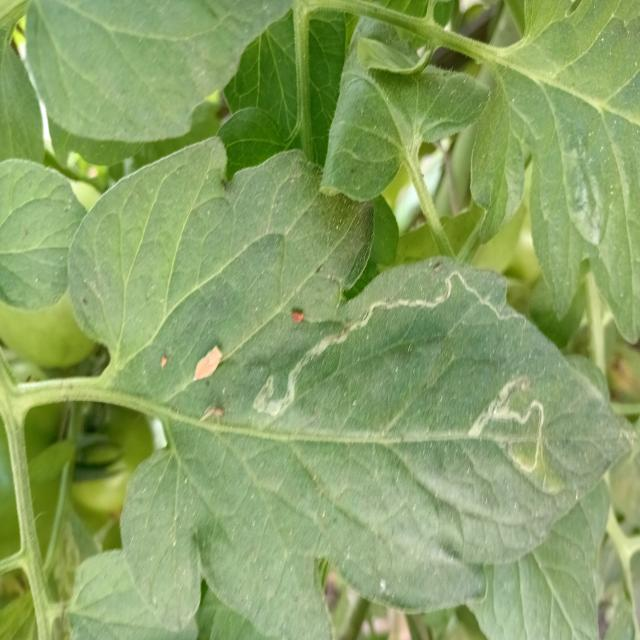Tuta absoluta: (243, 253, 468, 425), (467, 367, 572, 474)
